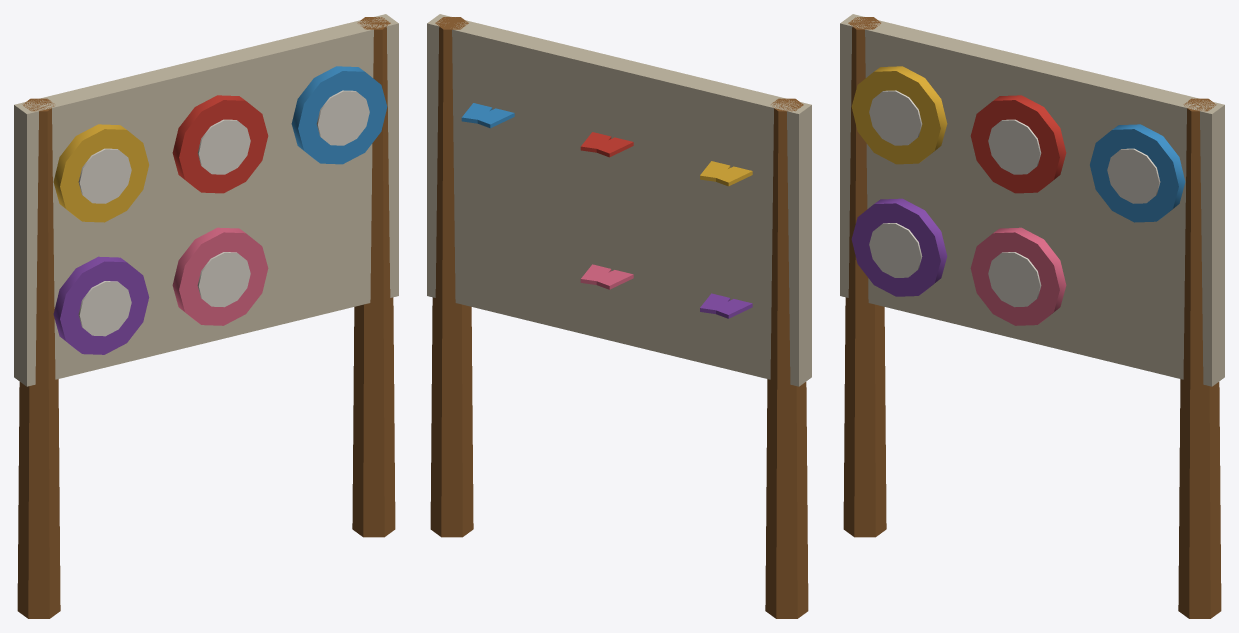
Rendered from fair_rosettes_display.glb.
3 views of the same model, side by side, from view 1: azimuth 30°, elevation 25°; view 2: azimuth 150°, elevation 25°; view 3: azimuth 330°, elevation 25° (orthographic).
Visible parts, largest first — view 1: decor-fair_rosettes_display; view 2: decor-fair_rosettes_display; view 3: decor-fair_rosettes_display.
Boxes of the visible parts, x1,y1,x2,y2 form: decor-fair_rosettes_display: (14, 14, 398, 618); decor-fair_rosettes_display: (427, 14, 811, 618); decor-fair_rosettes_display: (840, 14, 1224, 618).
Size of the model in its own units: 1 by 1.3 by 0.1984.
